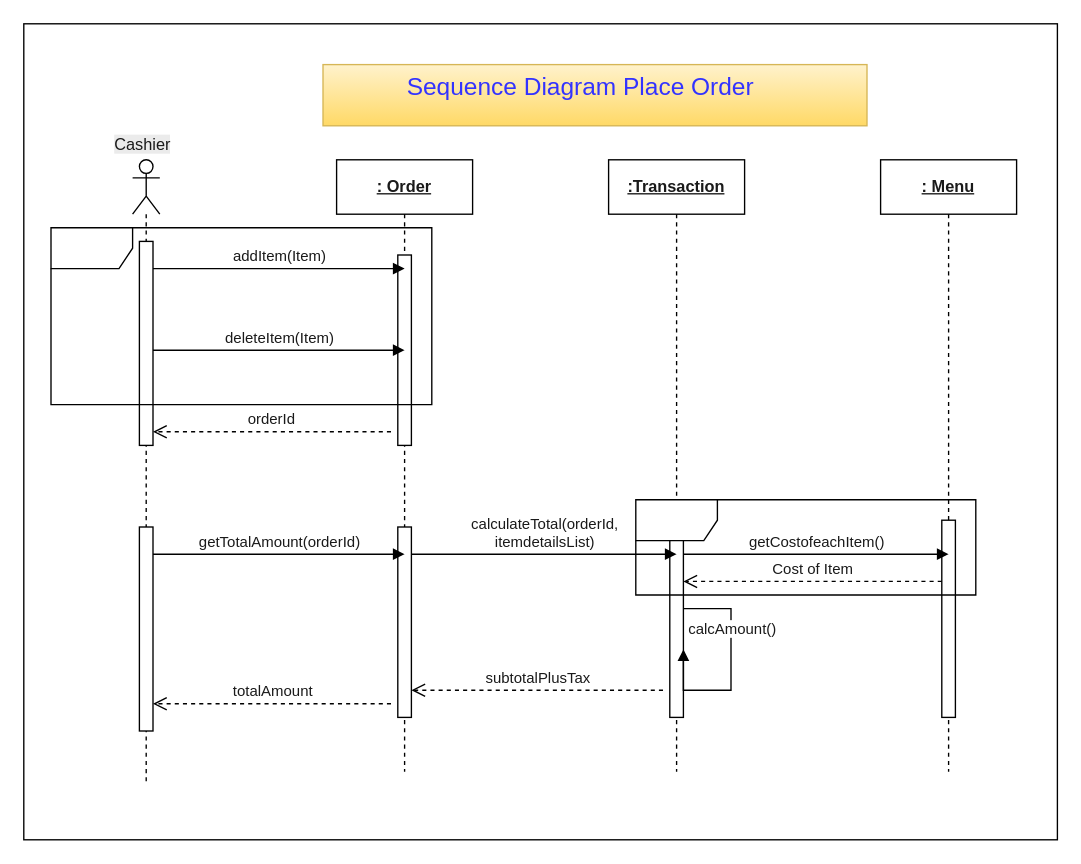
This 1081x864 diagram has some shape labels left out. Here are the shapes that lost their labels. From the top down, the centre of each, then its label:
At [241,315]: "addItems".
At [805,546]: "getPrices".
